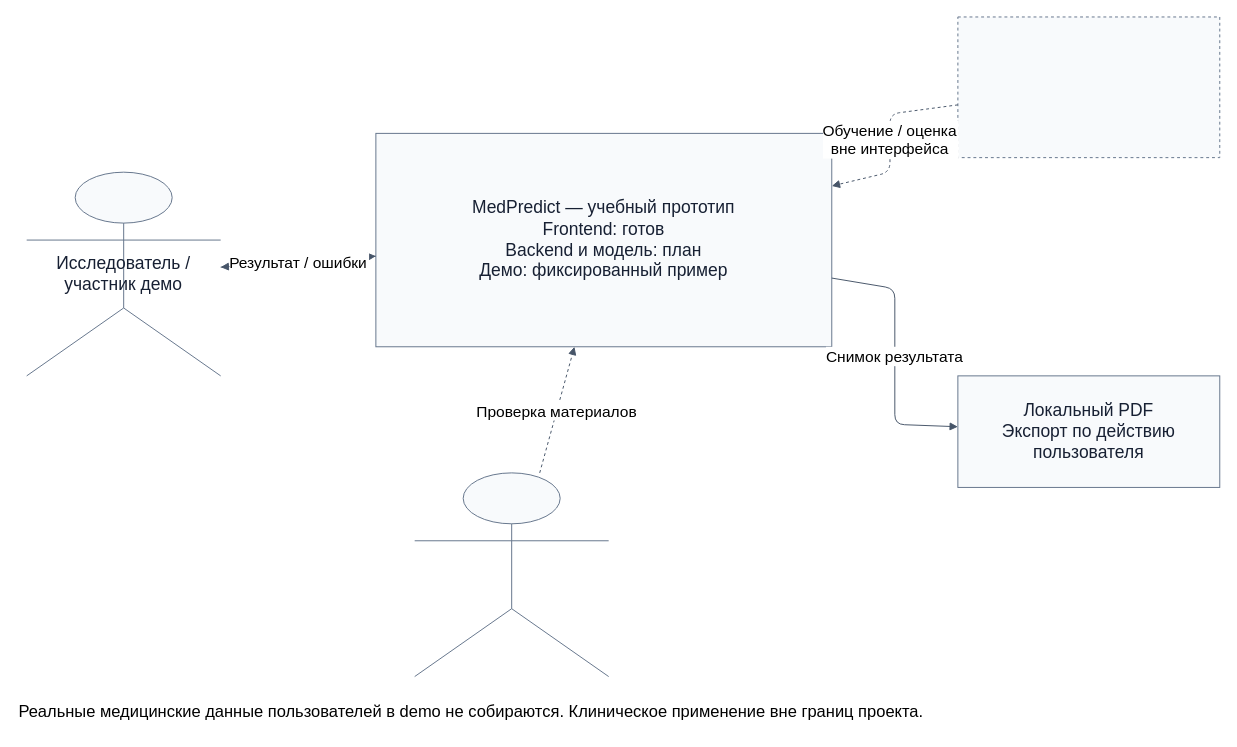
The diagram is 1237 pixels wide and 747 high, and some of its shapes have lost their labels. The shapes that lost their labels are listed below. From the top down, each one's centre as x and y in pixels, then its label:
the point at 1088,87: Обезличенные данные Источник и права ещё не утверждены
the point at 511,574: Команда и научный руководитель
